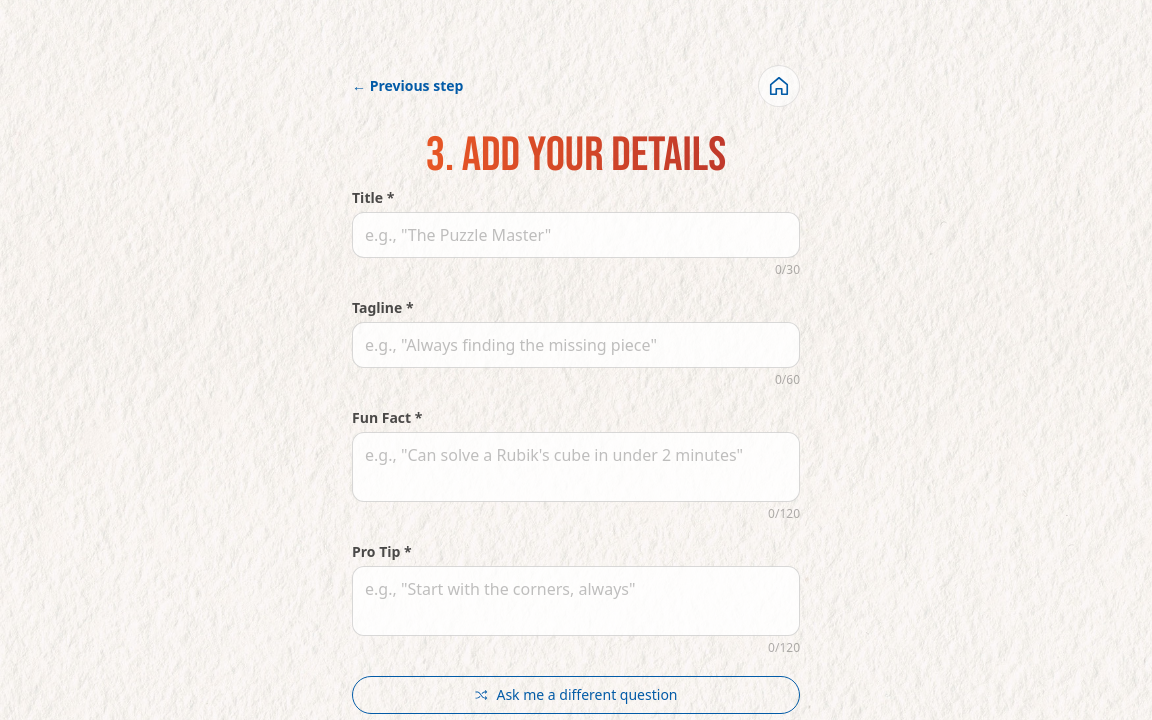
Scenario: TextEntry › updates character counters as user types
In the field with test id "field-title": (576, 235) [352, 212, 800, 258], type "Hello"
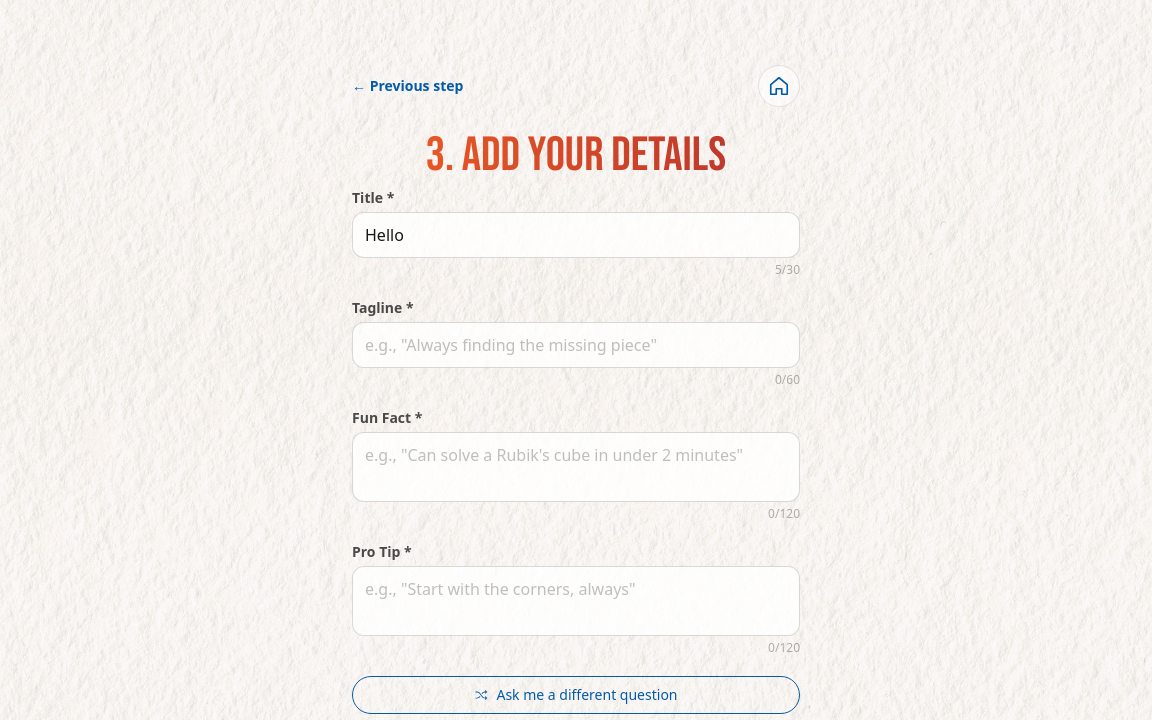
Result: the text with test id "counter-title" reads "5/30" at [775, 262, 800, 278]
